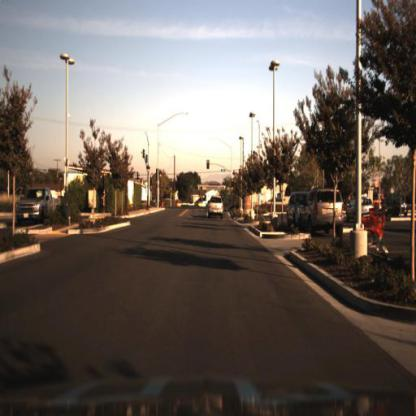car: (298, 184, 347, 233), (14, 182, 62, 223), (345, 193, 374, 220), (381, 193, 408, 216), (205, 198, 222, 222)
trafficLight-Red: (237, 165, 242, 180), (229, 175, 235, 186), (205, 156, 210, 168), (168, 176, 172, 186)
